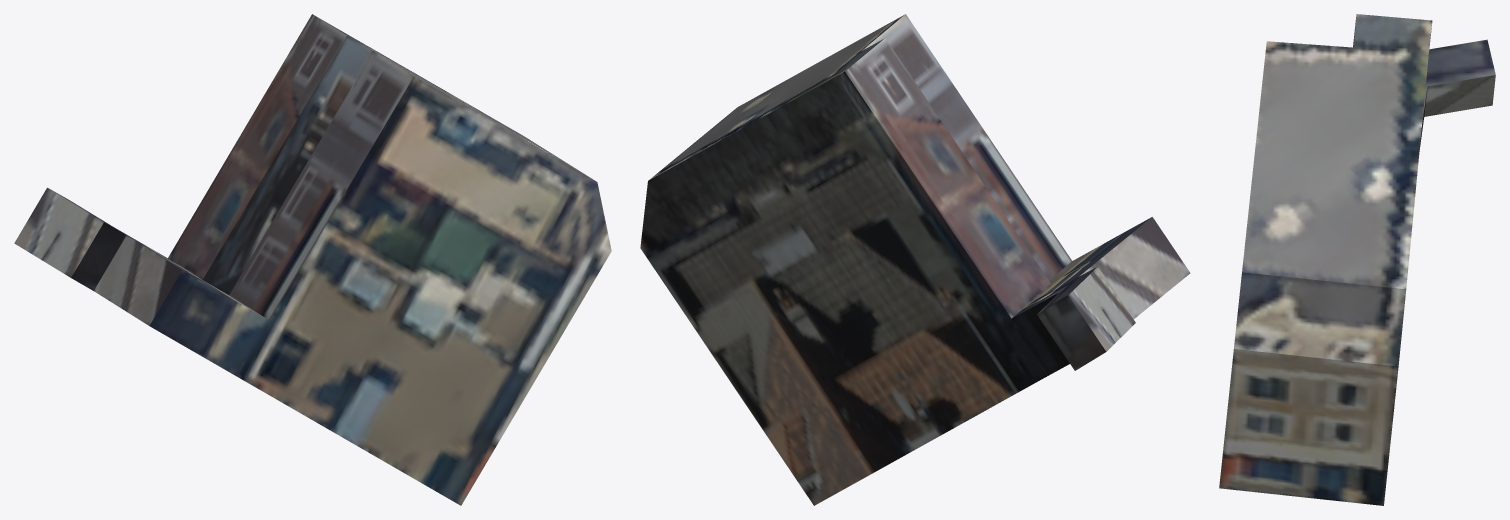
The picture shows the model from 3 angles, left to right: view 1: azimuth 30°, elevation 25°; view 2: azimuth 150°, elevation 25°; view 3: azimuth 270°, elevation 25°; orthographic projection. The views are drawn at different scales.
Visible parts, largest first — view 1: BAG_0599100000700986 (×5); view 2: BAG_0599100000700986 (×5); view 3: BAG_0599100000700986 (×3).
Part boxes in pixels (<box>): BAG_0599100000700986 (×5): <box>14,14,611,505</box>; BAG_0599100000700986 (×5): <box>640,14,1190,505</box>; BAG_0599100000700986 (×3): <box>1219,14,1495,505</box>.
Size of the model in its own units: 21.54 by 19.05 by 10.29.
Materials: 6 (6 with a texture image).
